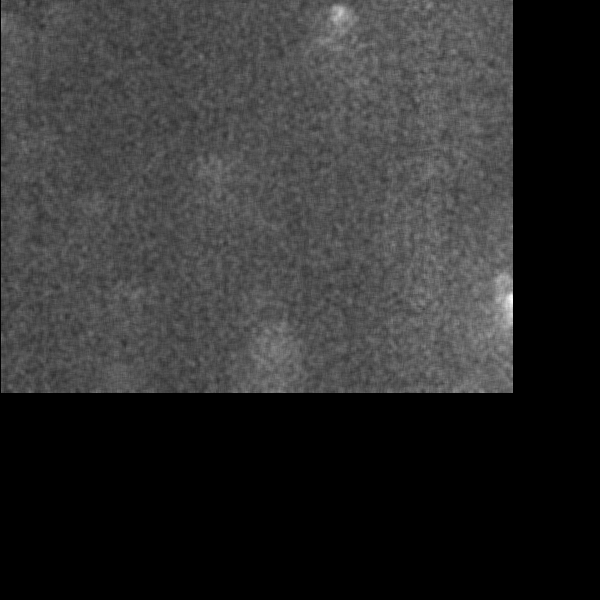spark: (130, 252, 153, 281)
